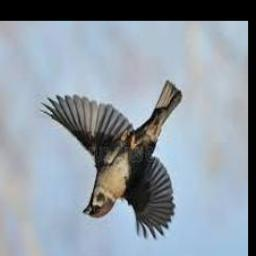Sparrow: (40, 80, 181, 242)
